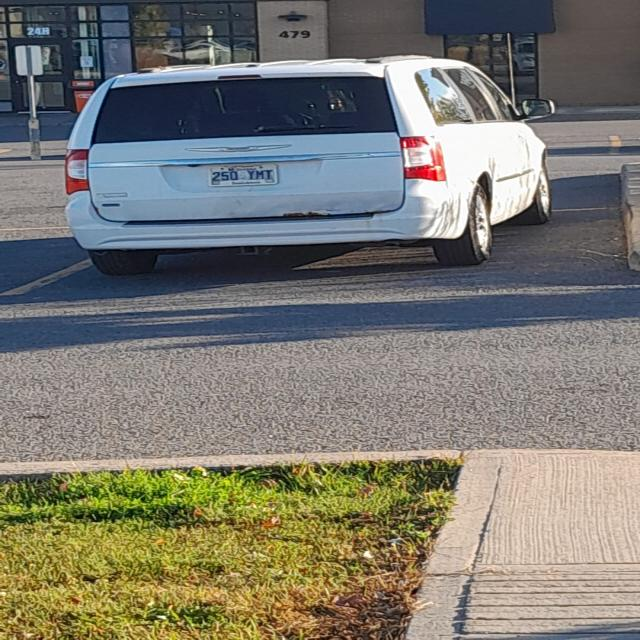plaque: (210, 164, 277, 186)
